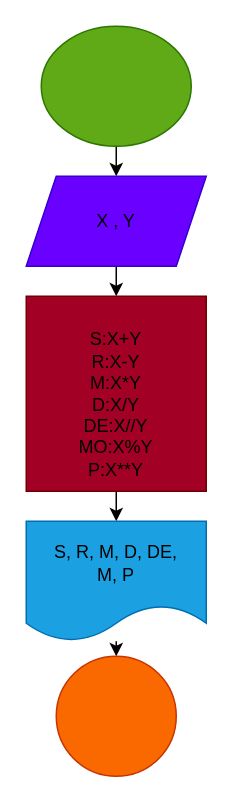
Some shapes in this 233 by 803 pixel diagram are drawn without their labels. Each missing label, with the box of its shape:
FIN: (55, 655, 176, 776)
INICIO: (40, 25, 191, 146)
